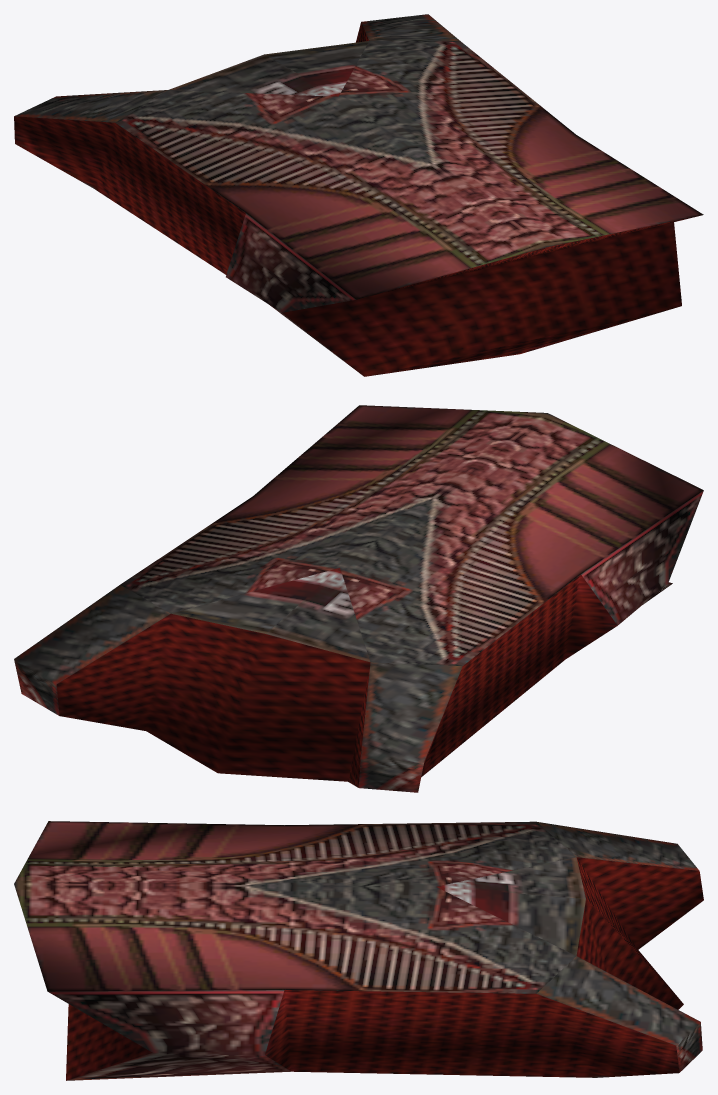
File: TorsoArmour6__BOS.glb
3 renders of one model, top to bottom at view 1: azimuth 30°, elevation 25°; view 2: azimuth 150°, elevation 25°; view 3: azimuth 270°, elevation 25°, orthographic.
Visible parts, largest first — view 1: TorsoArmour6; view 2: TorsoArmour6; view 3: TorsoArmour6.
Part boxes in pixels (x1=…): TorsoArmour6: x1=14, y1=14, x2=703, y2=376; TorsoArmour6: x1=14, y1=405, x2=703, y2=792; TorsoArmour6: x1=14, y1=821, x2=703, y2=1080.
Bounding box in the file's own units: 20.42 × 6.02 × 29.24.
1 material, 1 textured.
